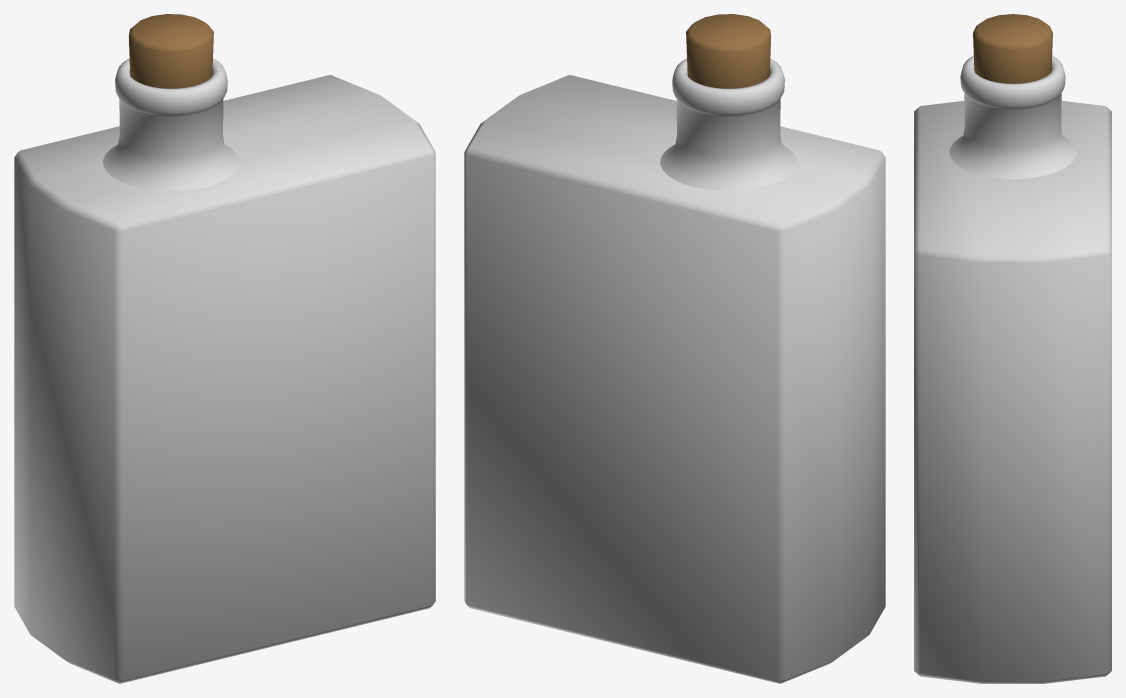
The model's file is Large.glb.
3 views of the same model, side by side, from view 1: azimuth 30°, elevation 25°; view 2: azimuth 150°, elevation 25°; view 3: azimuth 270°, elevation 25° (orthographic). The views are drawn at different scales.
Visible parts, largest first — view 1: LargeBottle, LargeCork; view 2: LargeBottle, LargeCork; view 3: LargeBottle, LargeCork.
Part boxes in pixels (x1,y1,x2,y2): LargeBottle: (14,58,435,683); LargeCork: (128,14,213,88); LargeBottle: (464,58,885,683); LargeCork: (686,14,771,88); LargeBottle: (914,56,1111,683); LargeCork: (973,14,1052,83).
Size of the model in its own units: 4.64 by 7.39 by 2.4.
